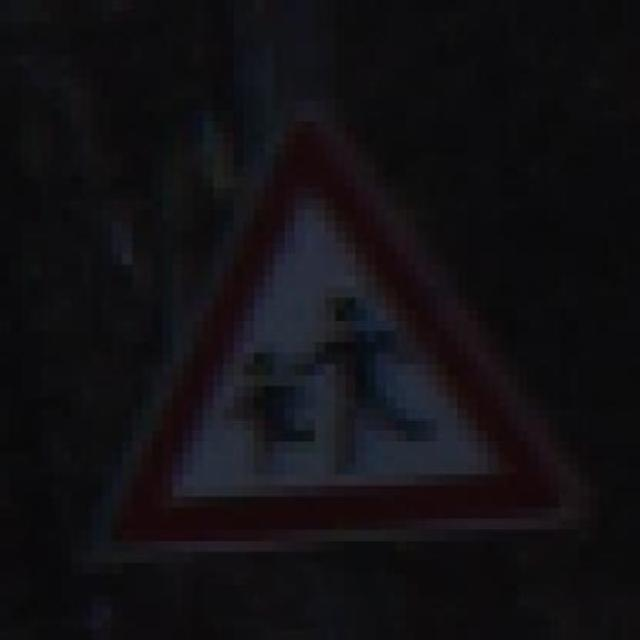Beware of children: (101, 88, 579, 563)
